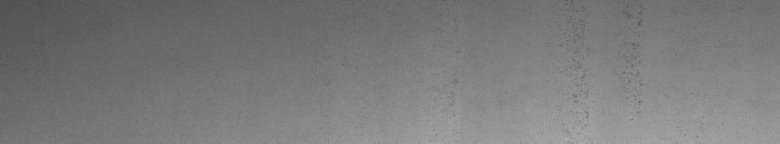ib: (573, 5, 643, 119)
